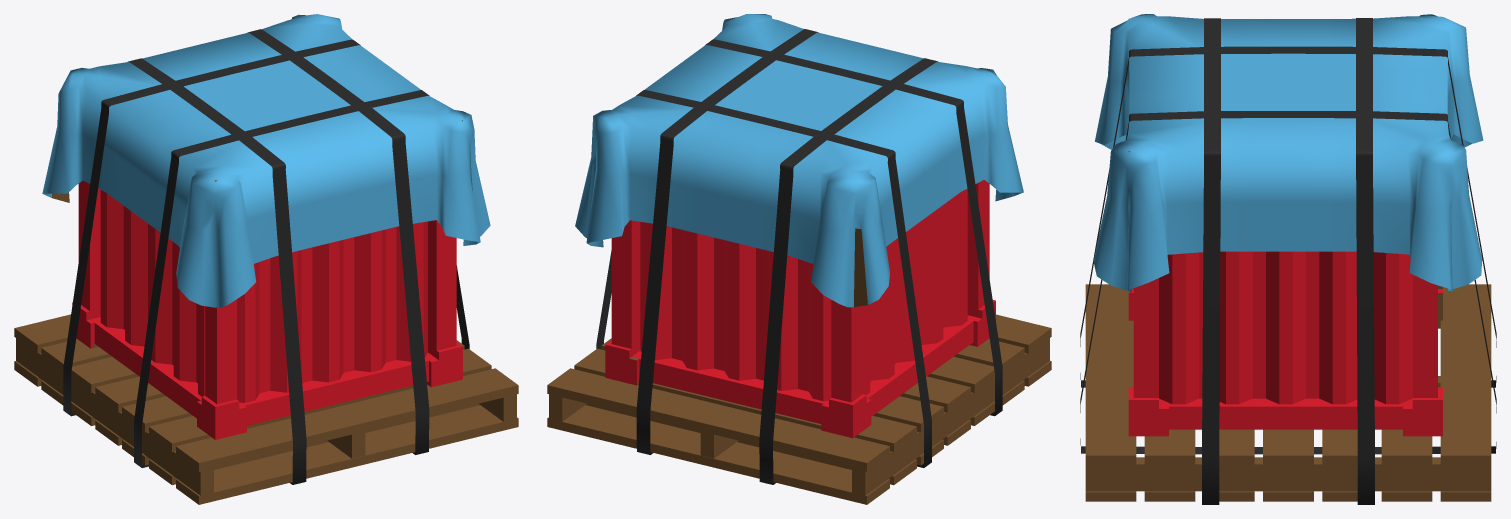
File: drop_box.fbx
3 renders of one model, left to right at view 1: azimuth 30°, elevation 25°; view 2: azimuth 150°, elevation 25°; view 3: azimuth 270°, elevation 25°, orthographic. The views are drawn at different scales.
Visible parts, largest first — view 1: drop box; view 2: drop box; view 3: drop box.
Part boxes in pixels (box(x1,y1,x2,y2)): drop box: box(14, 14, 518, 504); drop box: box(547, 14, 1051, 504); drop box: box(1080, 14, 1496, 504).
Bounding box in the file's own units: 3.19 × 2.84 × 3.19.
